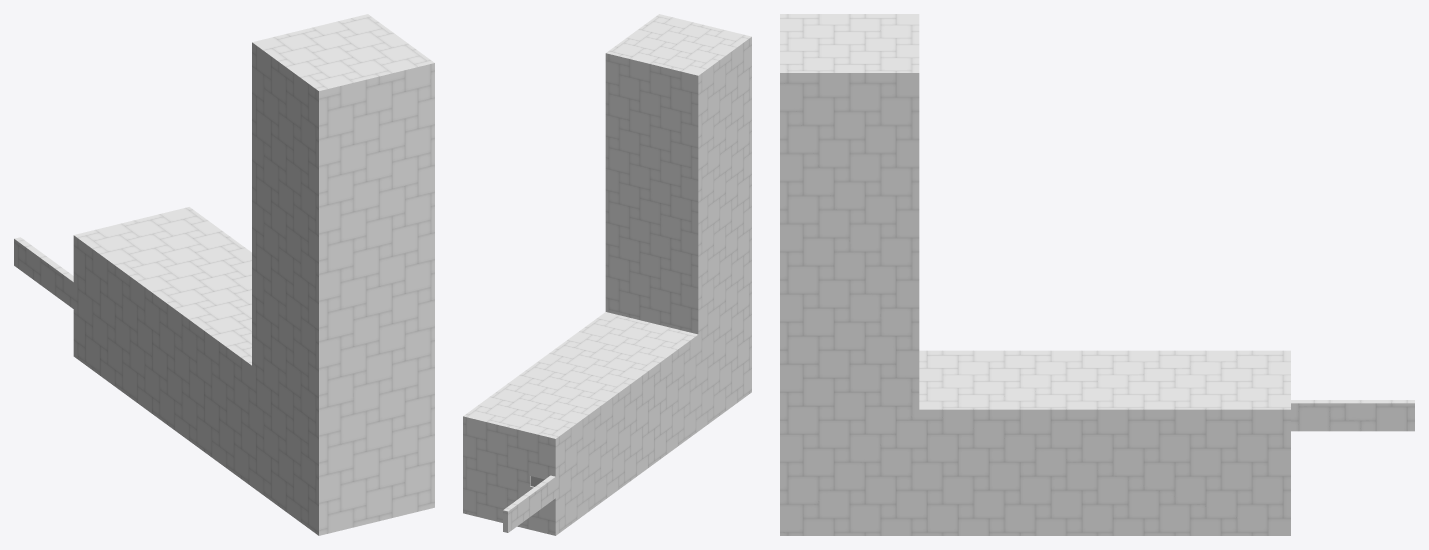
The model's file is Level_E_1.FBX.
3 views of the same model, side by side, from view 1: azimuth 30°, elevation 25°; view 2: azimuth 150°, elevation 25°; view 3: azimuth 270°, elevation 25° (orthographic). The views are drawn at different scales.
Parts seen in each view (by area): view 1: Box007; view 2: Box007; view 3: Box007.
Boxes of the visible parts, bbox=[...] form: Box007: bbox=[14, 14, 434, 535]; Box007: bbox=[463, 14, 751, 535]; Box007: bbox=[780, 14, 1414, 535].
Size of the model in its own units: 11.43 by 41.91 by 52.07.
